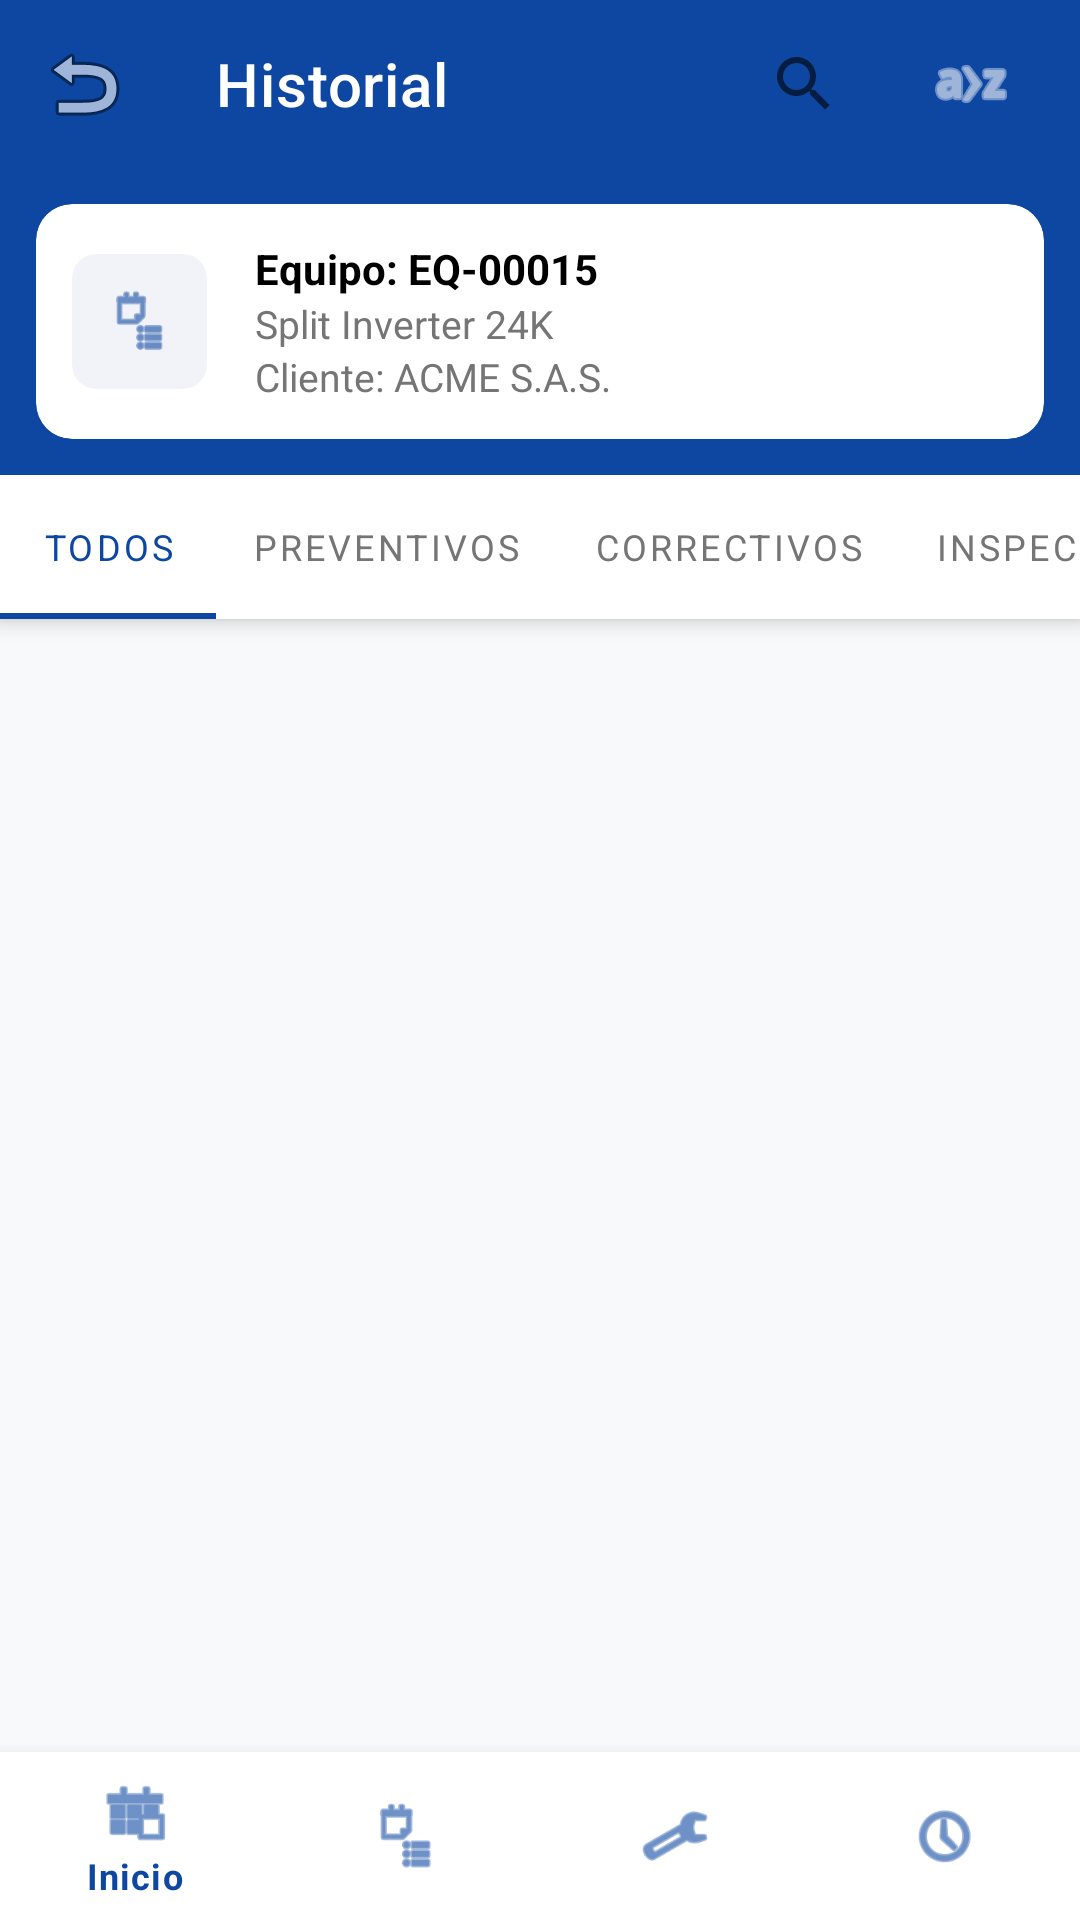

Point at icon controls on the screen. Image size 1080w x 1920h, points as [x,y].
Ordenar A-Z: [971,84]
